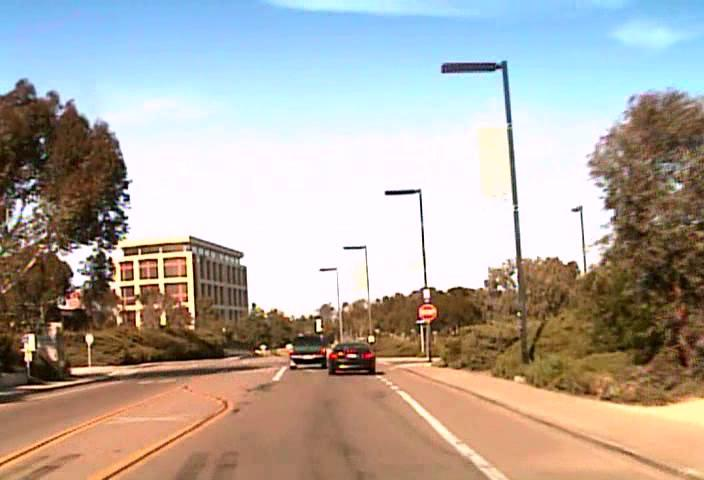stop: (418, 303, 436, 321)
